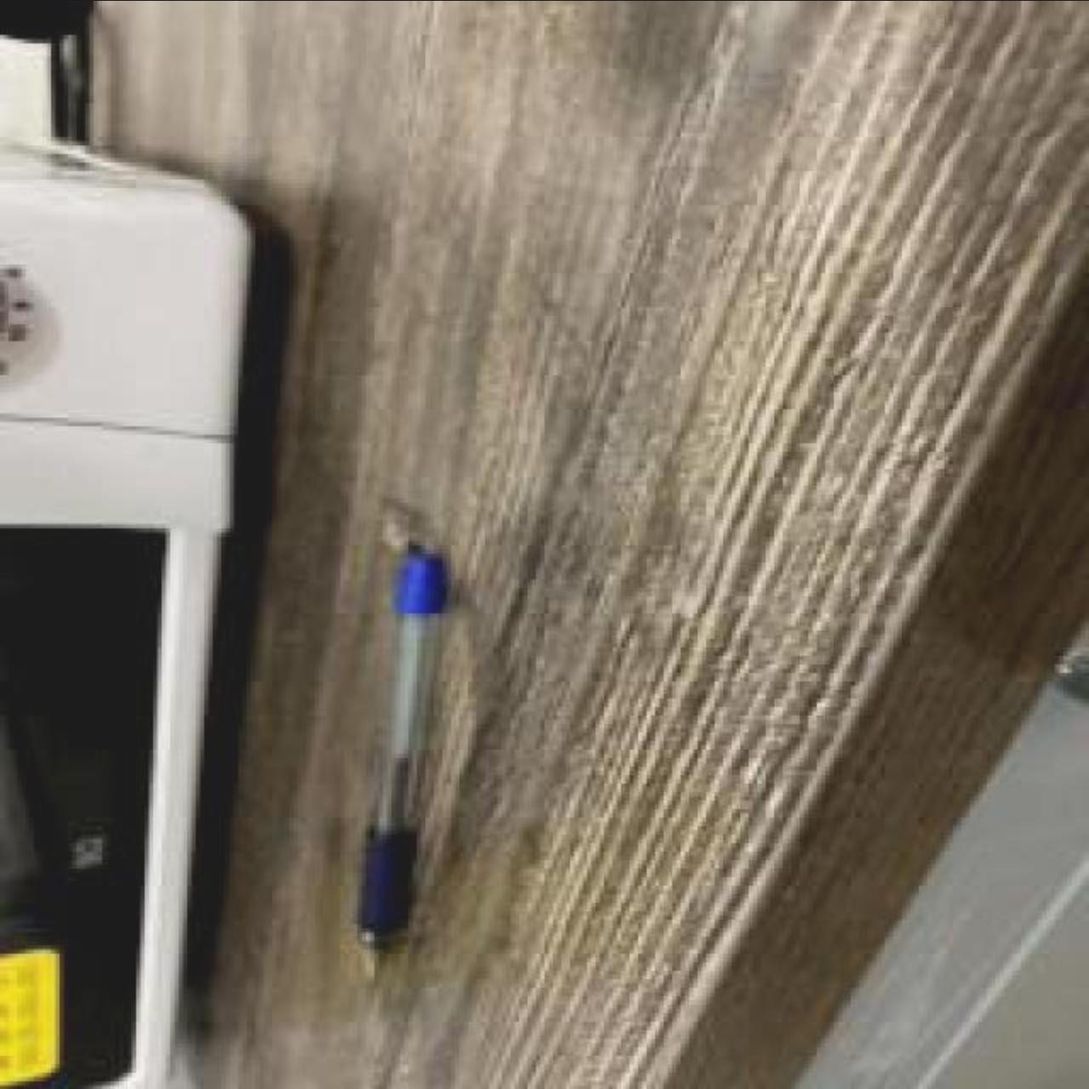pen: (349, 548, 451, 982)
